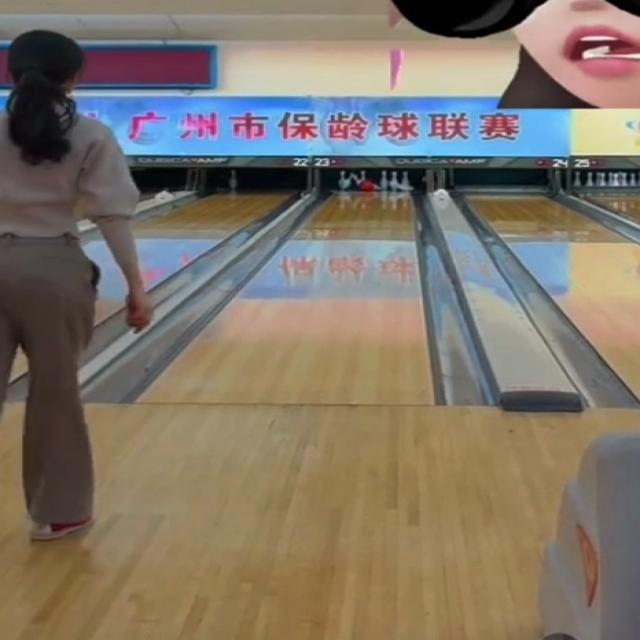alley: (144, 196, 433, 403)
balls: (360, 181, 375, 191)
bottle: (380, 171, 411, 190), (339, 171, 368, 191)
